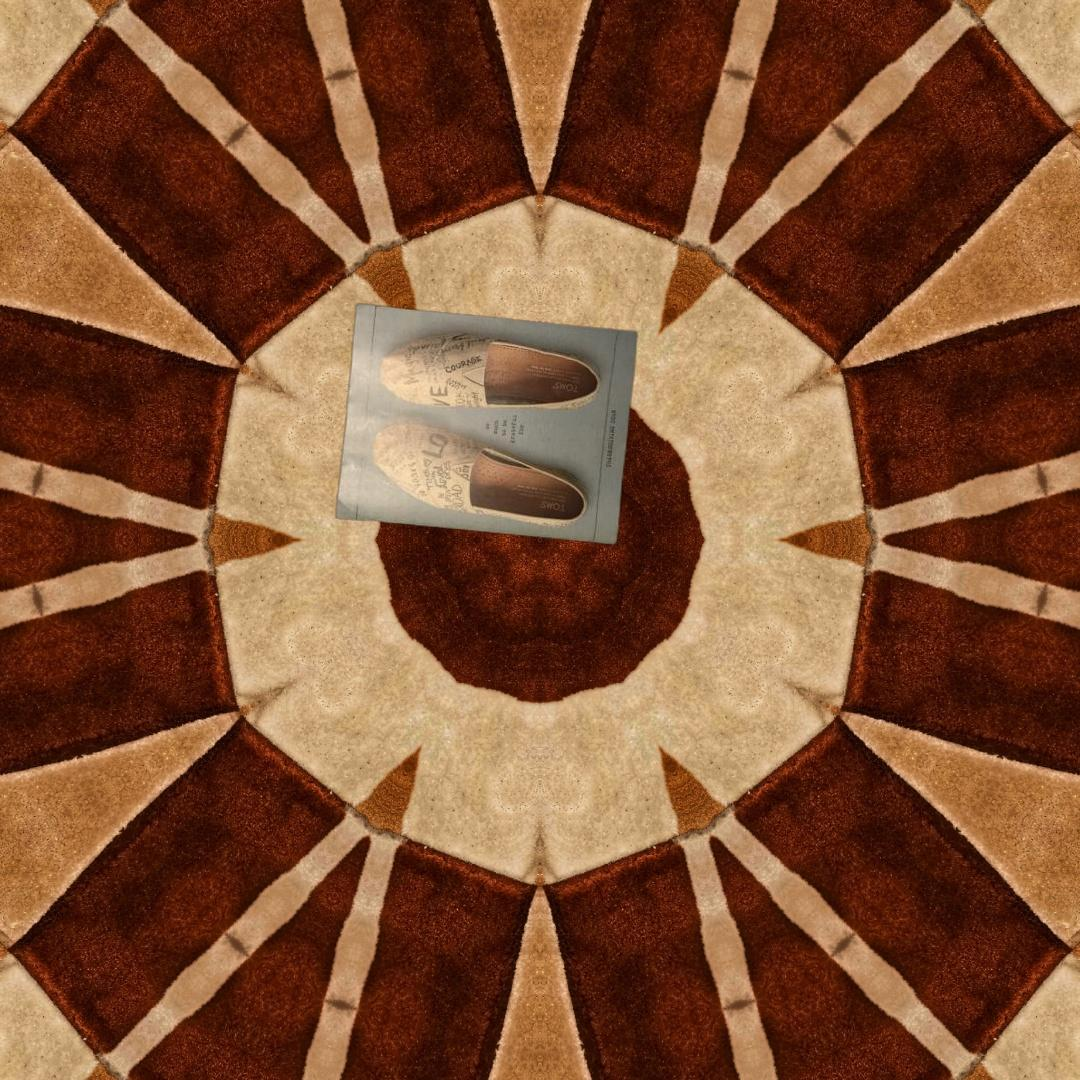paper: (332, 301, 641, 546)
